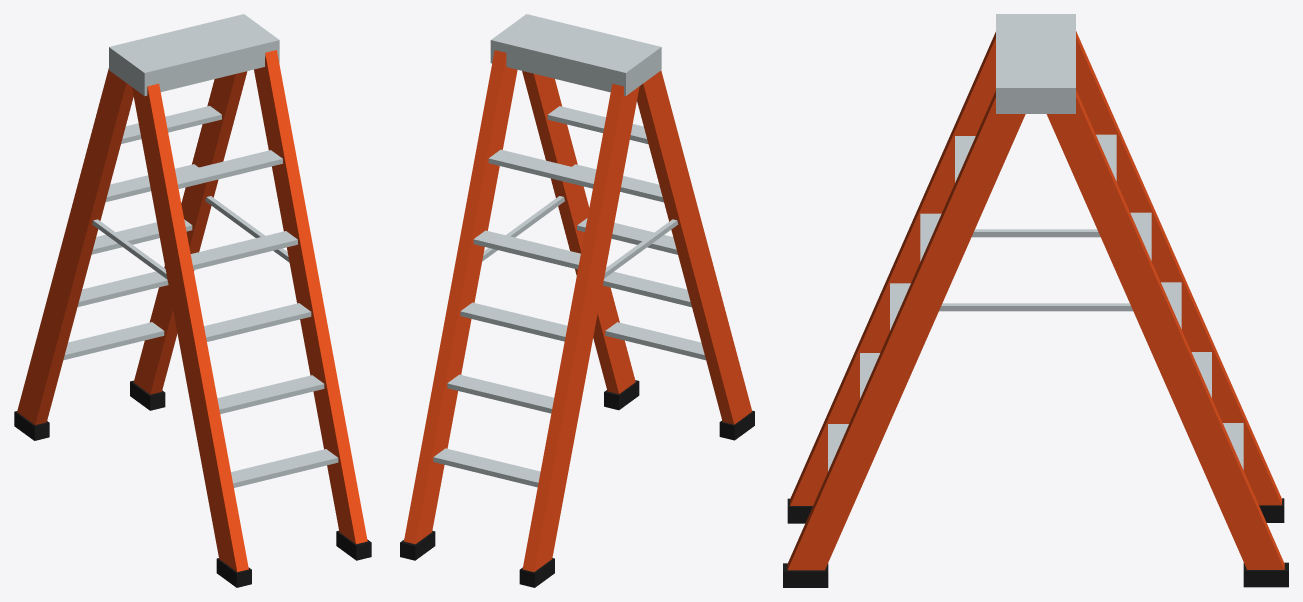
Rendered from Ladder.glb.
3 views of the same model, side by side, from view 1: azimuth 30°, elevation 25°; view 2: azimuth 150°, elevation 25°; view 3: azimuth 270°, elevation 25° (orthographic). The views are drawn at different scales.
Parts seen in each view (by area): view 1: Node; view 2: Node; view 3: Node.
Part boxes in pixels (box(x1,y1,x2,y2)): Node: box(14, 14, 371, 587); Node: box(400, 14, 754, 587); Node: box(783, 14, 1288, 587).
Bounding box in the file's own units: 1.18 × 3.67 × 3.35.
